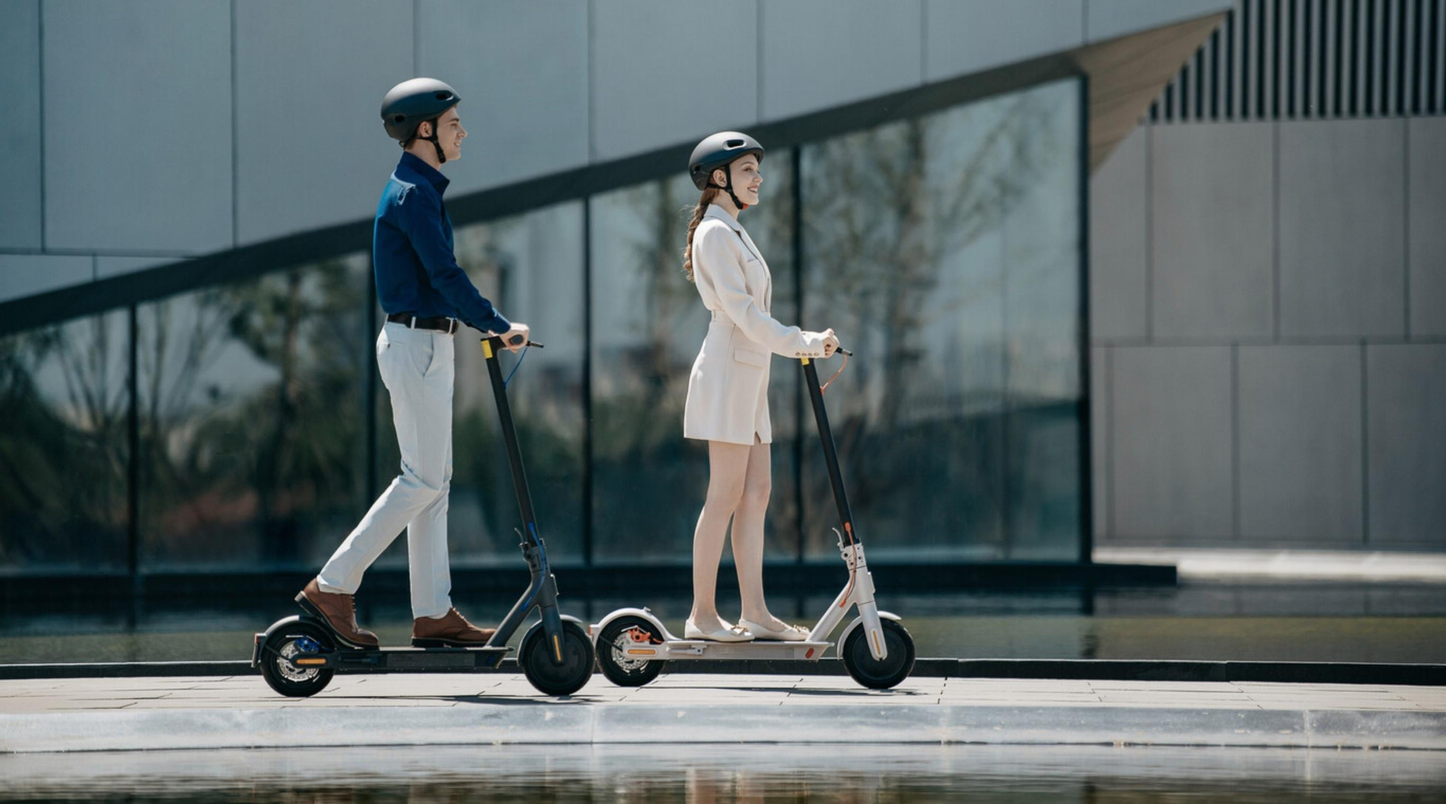helmet: (378, 70, 474, 174), (687, 128, 769, 225)
human: (304, 71, 513, 650), (676, 129, 839, 652)
kickboard: (259, 609, 596, 707), (593, 611, 938, 695)
